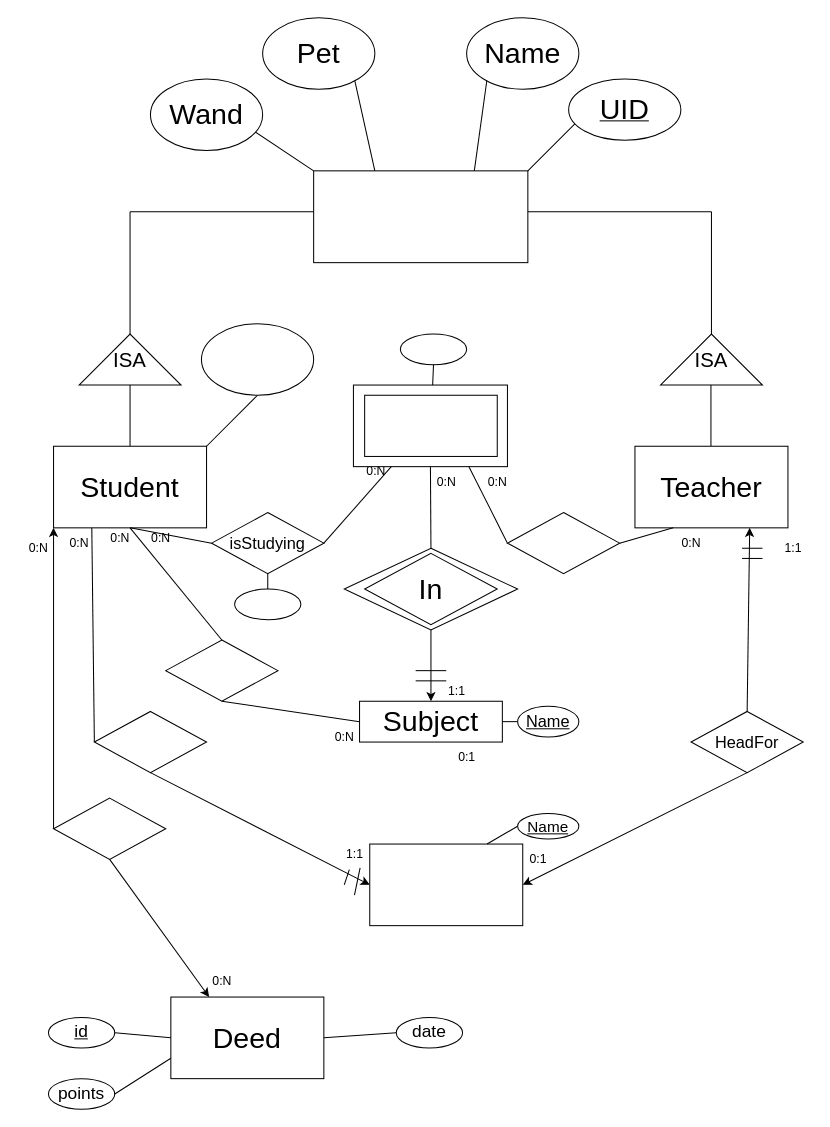
This 830x1127 diagram has some shape labels left out. The centre of each missing label's shape, as x and y in pixels:
"BelongsTo" belongs at pixel 150 741.
"CompletesA" belongs at pixel 109 828.
"CourseOffering" belongs at pixel 430 425.
"Entry Year" belongs at pixel 257 359.
"Favorite" belongs at pixel 221 670.
"Grade" belongs at pixel 267 604.
"House" belongs at pixel 446 884.
"isTeaching" belongs at pixel 563 543.
"Person" belongs at pixel 420 216.
"Year" belongs at pixel 433 349.
